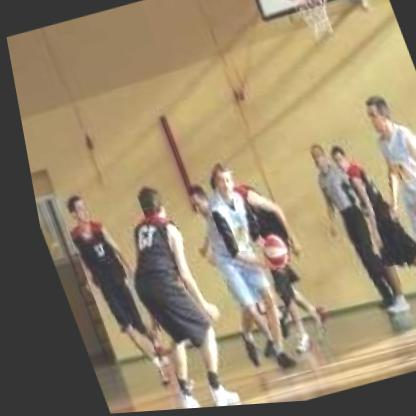basketball: (248, 231, 287, 275)
